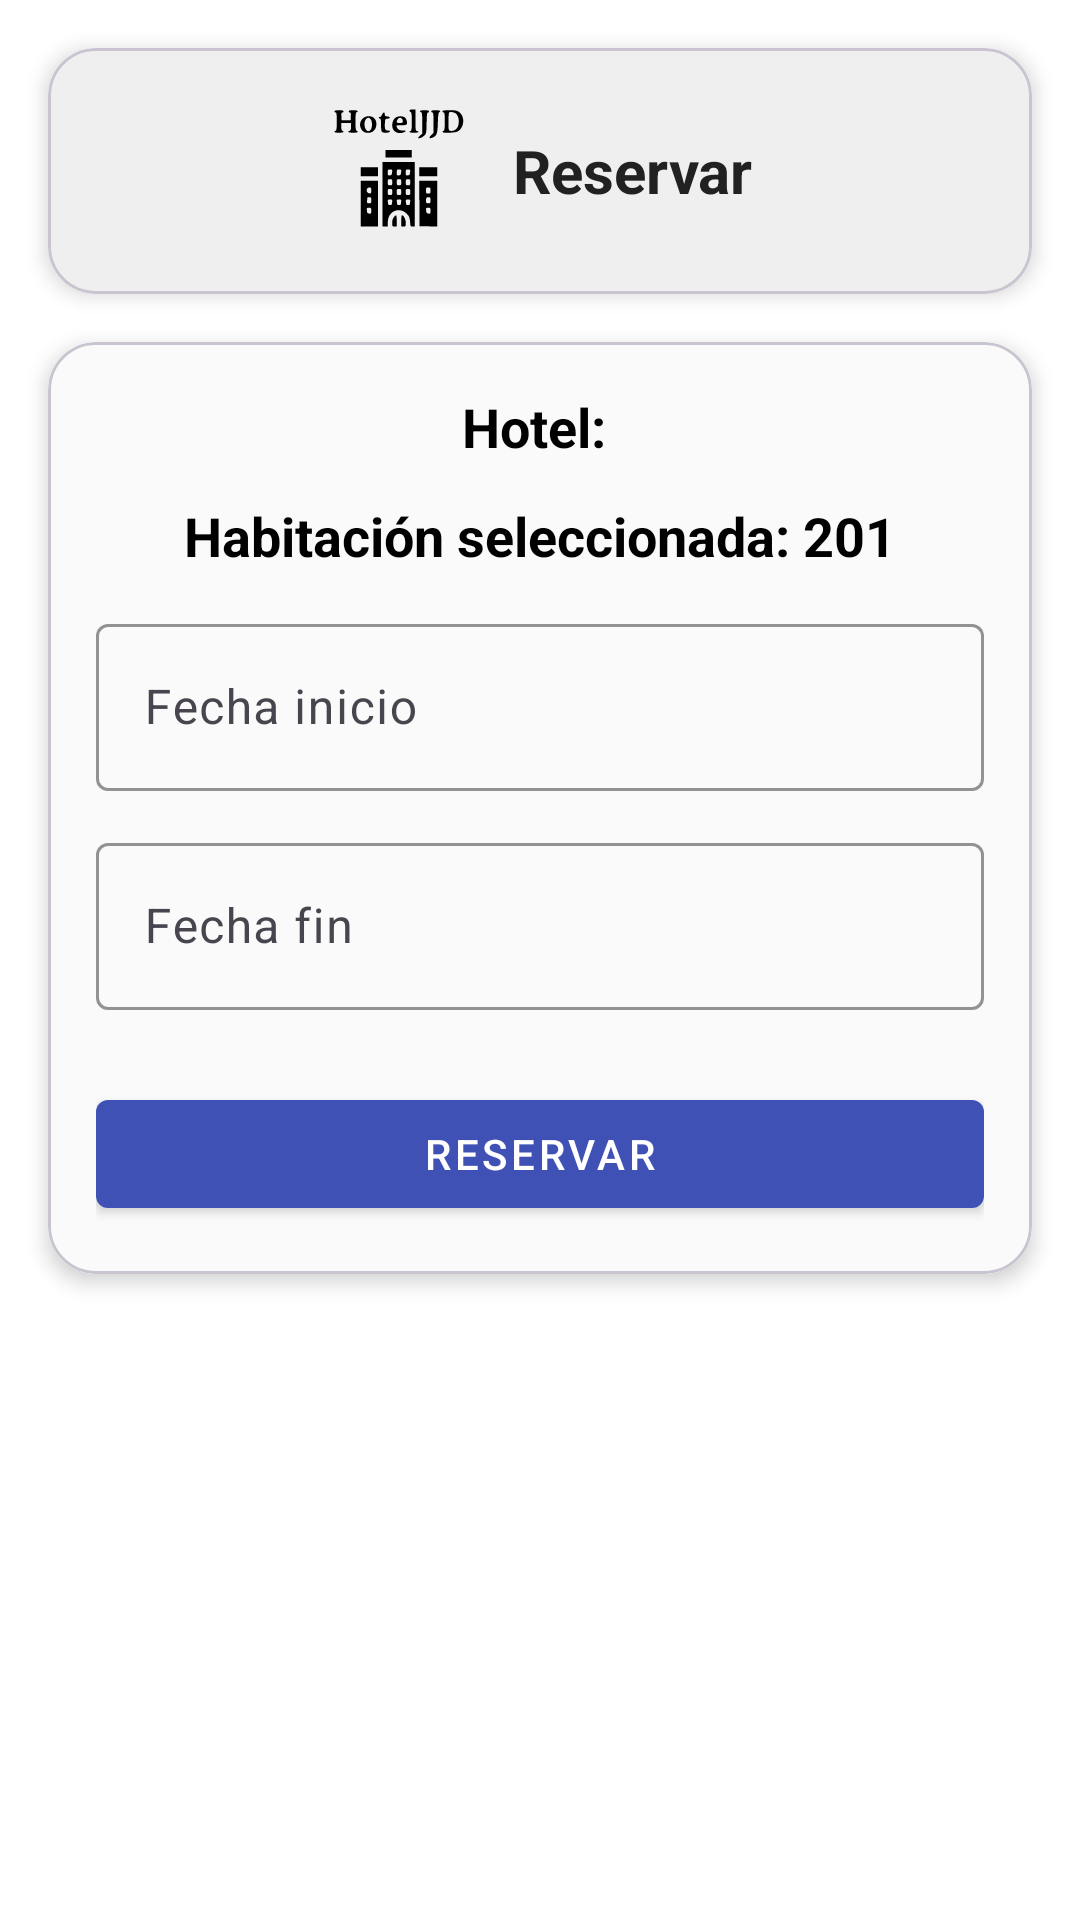

Screen size 1080x1920. Icon name, then its box in pixels as (x1, y1, x2, y2):
Icono de bienvenida: (334, 109, 464, 227)
